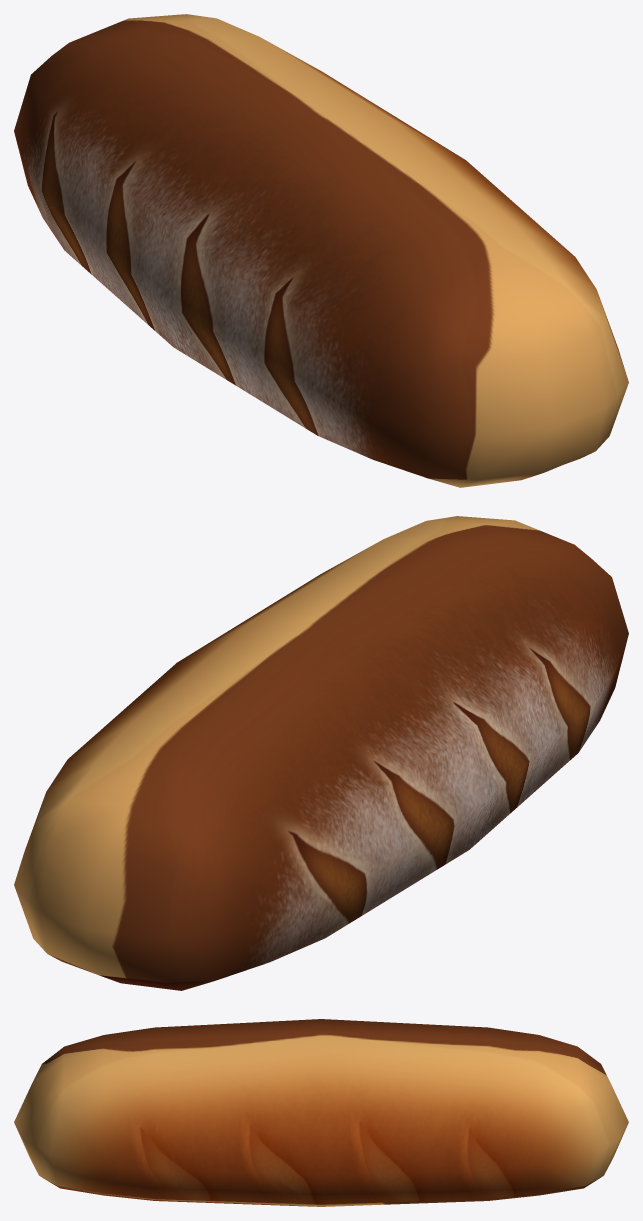
File: French_01.fbx
The picture shows the model from 3 angles, top to bottom: view 1: azimuth 30°, elevation 25°; view 2: azimuth 150°, elevation 25°; view 3: azimuth 270°, elevation 25°; orthographic projection. The views are drawn at different scales.
Visible parts, largest first — view 1: French_01; view 2: French_01; view 3: French_01.
Boxes of the visible parts, x1,y1,x2,y2 form: French_01: [14, 14, 628, 487]; French_01: [14, 516, 628, 990]; French_01: [14, 1019, 628, 1206].
Size of the model in its own units: 39.86 by 27.37 by 98.1.
